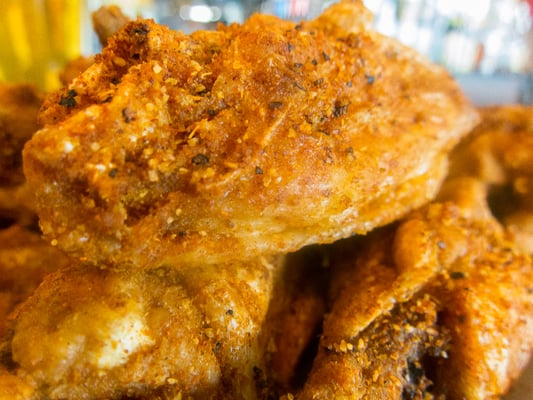soup: (4, 2, 522, 400)
